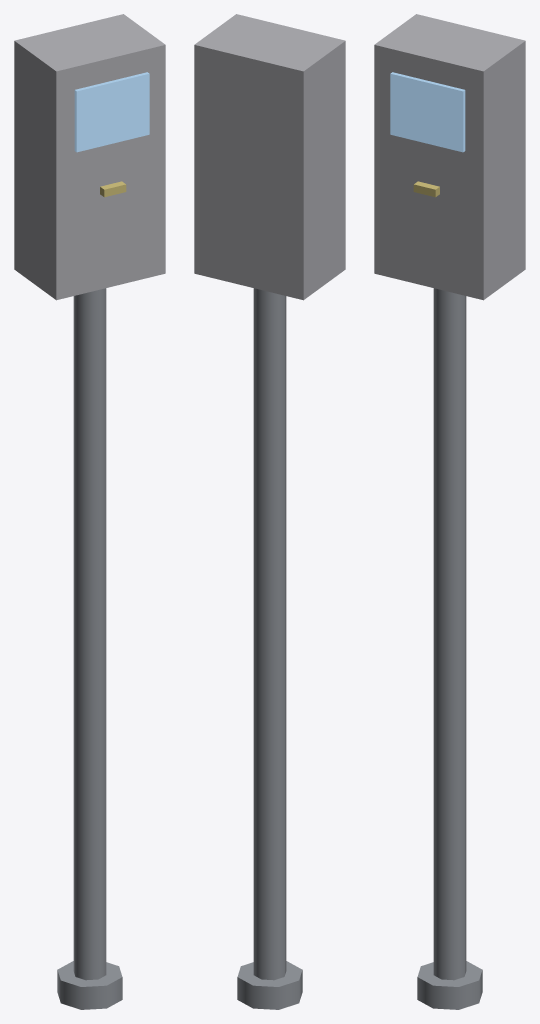
File: parking_meter.glb
3 renders of one model, left to right at view 1: azimuth 30°, elevation 25°; view 2: azimuth 150°, elevation 25°; view 3: azimuth 330°, elevation 25°, orthographic.
Parts seen in each view (by area): view 1: head, pole, screen, base; view 2: head, pole, base; view 3: head, pole, screen, base.
Part boxes in pixels (x1=…): head: x1=14, y1=14, x2=165, y2=300; pole: x1=73, y1=288, x2=106, y2=980; screen: x1=74, y1=72, x2=149, y2=152; base: x1=57, y1=961, x2=122, y2=1009; head: x1=194, y1=14, x2=345, y2=300; pole: x1=253, y1=288, x2=286, y2=980; base: x1=237, y1=961, x2=302, y2=1009; head: x1=374, y1=14, x2=525, y2=300; pole: x1=433, y1=288, x2=466, y2=980; screen: x1=390, y1=72, x2=465, y2=152; base: x1=417, y1=961, x2=482, y2=1009.
Size of the model in its own units: 0.15 by 1.25 by 0.11.
